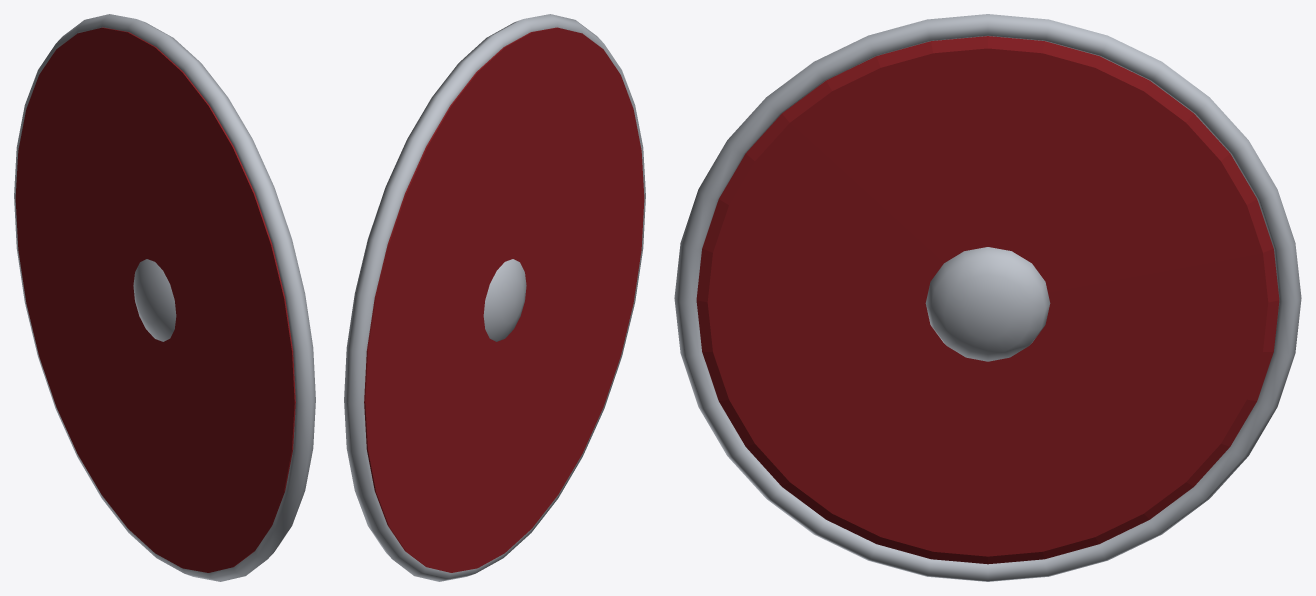
The model's file is shield.glb.
3 views of the same model, side by side, from view 1: azimuth 30°, elevation 25°; view 2: azimuth 150°, elevation 25°; view 3: azimuth 270°, elevation 25° (orthographic). The views are drawn at different scales.
Parts seen in each view (by area): view 1: shield; view 2: shield; view 3: shield.
Part boxes in pixels (x1,y1,x2,y2): shield: [14, 14, 315, 581]; shield: [344, 14, 645, 581]; shield: [674, 14, 1301, 581].
Bounding box in the file's own units: 0.0723 × 0.6038 × 0.604.
